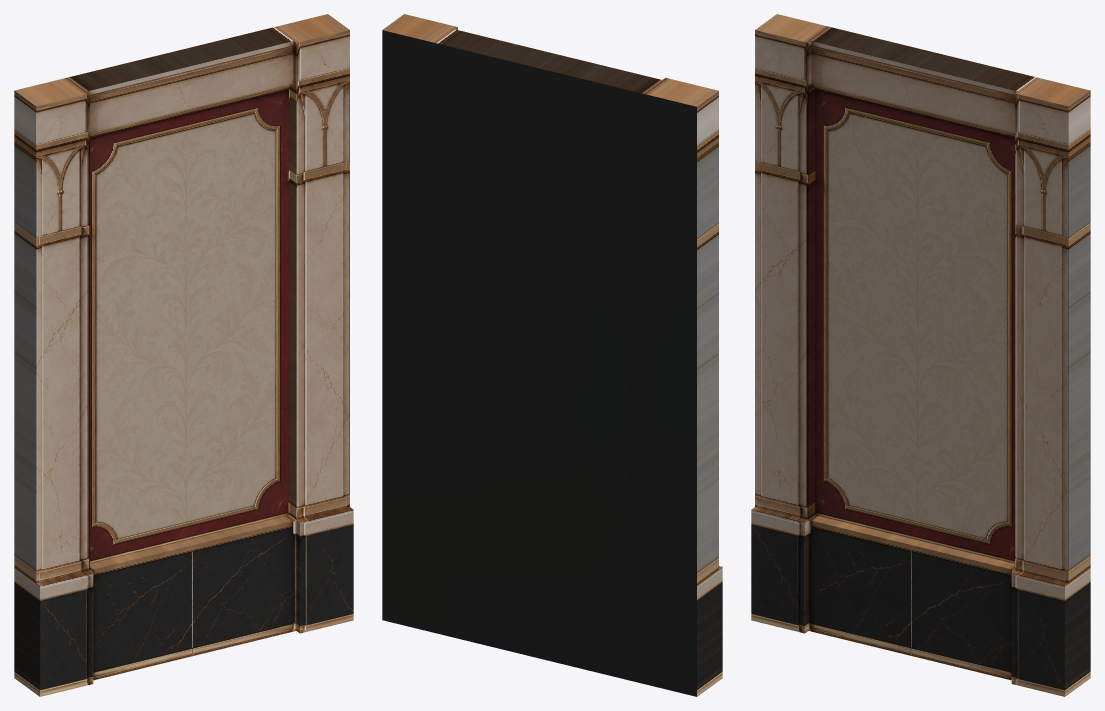
The model's file is Wall_04.glb.
3 renders of one model, left to right at view 1: azimuth 30°, elevation 25°; view 2: azimuth 150°, elevation 25°; view 3: azimuth 330°, elevation 25°, orthographic.
Parts seen in each view (by area): view 1: Wall_04; view 2: Wall_04; view 3: Wall_04.
Boxes of the visible parts, bbox=[...] form: Wall_04: bbox=[14, 14, 353, 696]; Wall_04: bbox=[382, 14, 722, 696]; Wall_04: bbox=[751, 14, 1090, 696].
Size of the model in its own units: 5.14 by 9.21 by 0.7253.
1 material, 1 textured.
